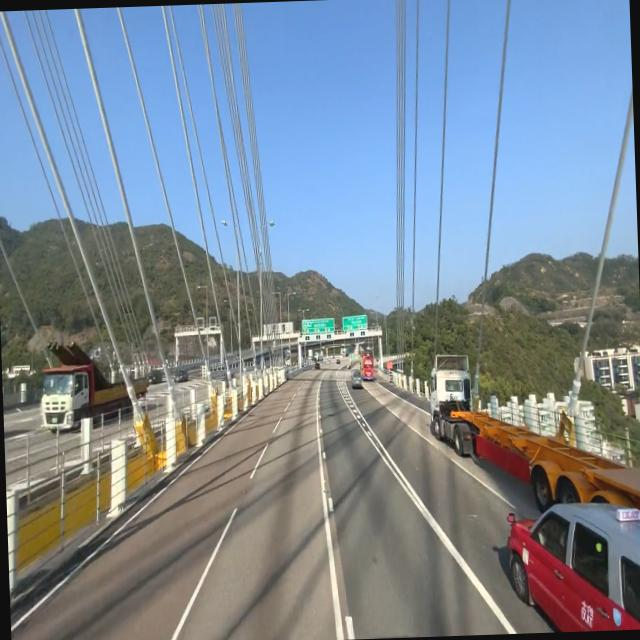Vehicle: (427, 346, 640, 532), (502, 492, 640, 633), (347, 366, 362, 389)
